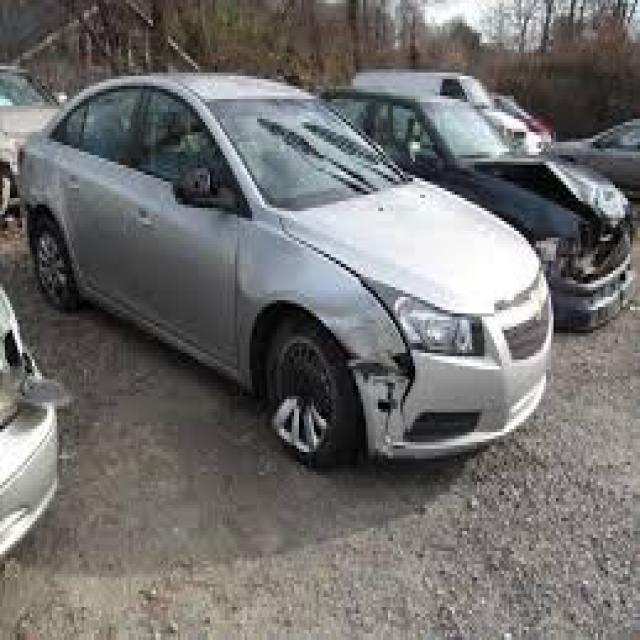minor: (304, 252, 461, 502)
